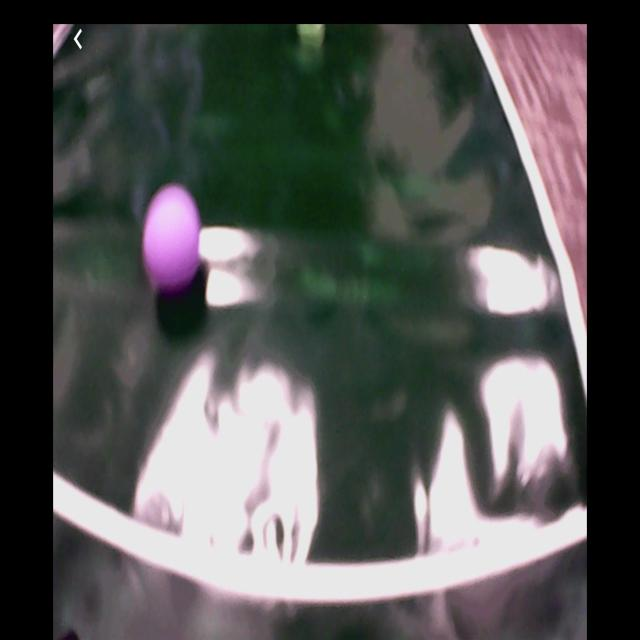ball: (144, 186, 202, 290)
